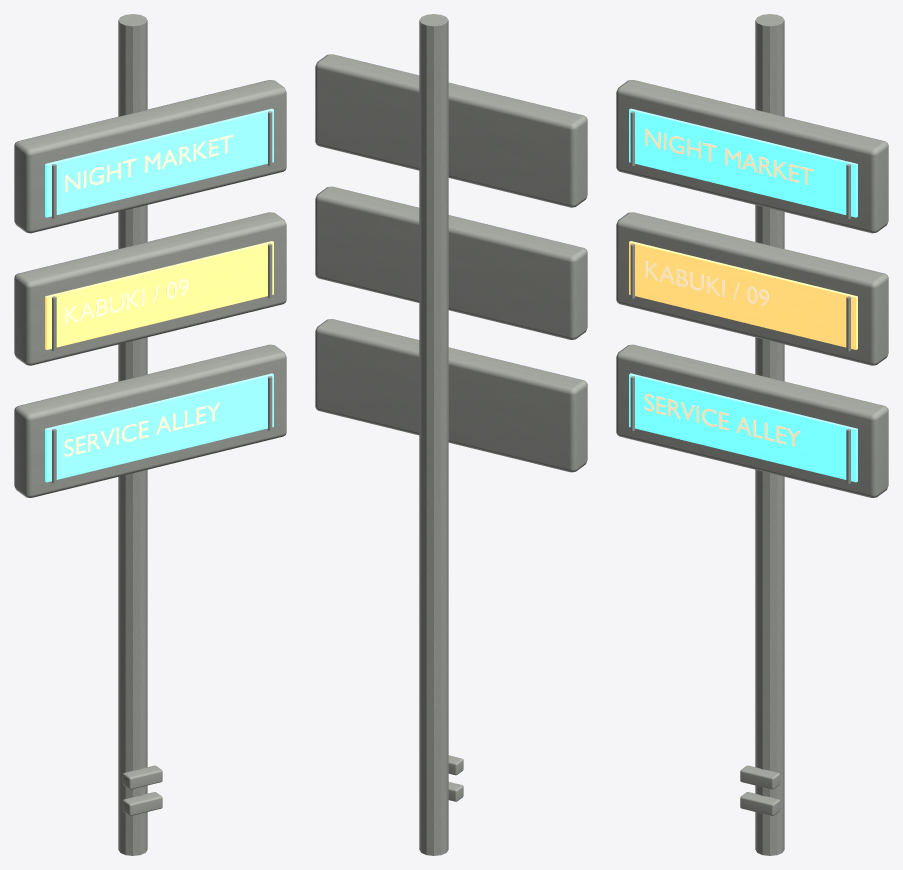
The model's file is night_market_streetsigns.glb.
3 views of the same model, side by side, from view 1: azimuth 30°, elevation 25°; view 2: azimuth 150°, elevation 25°; view 3: azimuth 330°, elevation 25° (orthographic).
Visible parts, largest first — view 1: ENV_NMK_Sign_Post, ENV_NMK_Sign_Blade.002, ENV_NMK_Sign_Blade.001, ENV_NMK_Sign_Blade, ENV_NMK_Sign_Diffuser.001, ENV_NMK_Sign_Diffuser.002, ENV_NMK_Sign_Diffuser, ENV_NMK_Sign_Label, ENV_NMK_Sign_Label.002, ENV_NMK_Sign_Label.001, ENV_NMK_Sign_Base_Bolt.001, ENV_NMK_Sign_Base_Bolt; view 2: ENV_NMK_Sign_Post, ENV_NMK_Sign_Blade, ENV_NMK_Sign_Blade.001, ENV_NMK_Sign_Blade.002; view 3: ENV_NMK_Sign_Post, ENV_NMK_Sign_Blade.002, ENV_NMK_Sign_Blade.001, ENV_NMK_Sign_Blade, ENV_NMK_Sign_Diffuser.001, ENV_NMK_Sign_Diffuser.002, ENV_NMK_Sign_Diffuser, ENV_NMK_Sign_Label, ENV_NMK_Sign_Label.002, ENV_NMK_Sign_Label.001, ENV_NMK_Sign_Base_Bolt.001, ENV_NMK_Sign_Base_Bolt.
Part boxes in pixels (box(x1,y1,x2,y2)): ENV_NMK_Sign_Post: box(118, 14, 147, 855); ENV_NMK_Sign_Blade.002: box(14, 344, 286, 497); ENV_NMK_Sign_Blade.001: box(14, 212, 286, 365); ENV_NMK_Sign_Blade: box(14, 80, 286, 233); ENV_NMK_Sign_Diffuser.001: box(45, 241, 273, 349); ENV_NMK_Sign_Diffuser.002: box(45, 373, 273, 482); ENV_NMK_Sign_Diffuser: box(45, 108, 273, 217); ENV_NMK_Sign_Label: box(65, 134, 233, 192); ENV_NMK_Sign_Label.002: box(64, 402, 220, 456); ENV_NMK_Sign_Label.001: box(65, 278, 188, 324); ENV_NMK_Sign_Base_Bolt.001: box(122, 765, 162, 789); ENV_NMK_Sign_Base_Bolt: box(122, 792, 162, 815); ENV_NMK_Sign_Post: box(419, 14, 448, 855); ENV_NMK_Sign_Blade: box(315, 54, 587, 207); ENV_NMK_Sign_Blade.001: box(315, 186, 587, 339); ENV_NMK_Sign_Blade.002: box(315, 319, 587, 472); ENV_NMK_Sign_Post: box(755, 14, 784, 855); ENV_NMK_Sign_Blade.002: box(616, 344, 888, 497); ENV_NMK_Sign_Blade.001: box(616, 212, 888, 365); ENV_NMK_Sign_Blade: box(616, 80, 888, 233); ENV_NMK_Sign_Diffuser.001: box(629, 241, 857, 349); ENV_NMK_Sign_Diffuser.002: box(629, 373, 857, 482); ENV_NMK_Sign_Diffuser: box(629, 108, 857, 217); ENV_NMK_Sign_Label: box(645, 128, 813, 184); ENV_NMK_Sign_Label.002: box(644, 394, 800, 446); ENV_NMK_Sign_Label.001: box(645, 261, 768, 306); ENV_NMK_Sign_Base_Bolt.001: box(740, 765, 780, 789); ENV_NMK_Sign_Base_Bolt: box(740, 792, 780, 815).
Size of what is drawn, in the model's own units: 1.55 by 4.7 by 0.387.
Materials: 5 (5 with a texture image).
